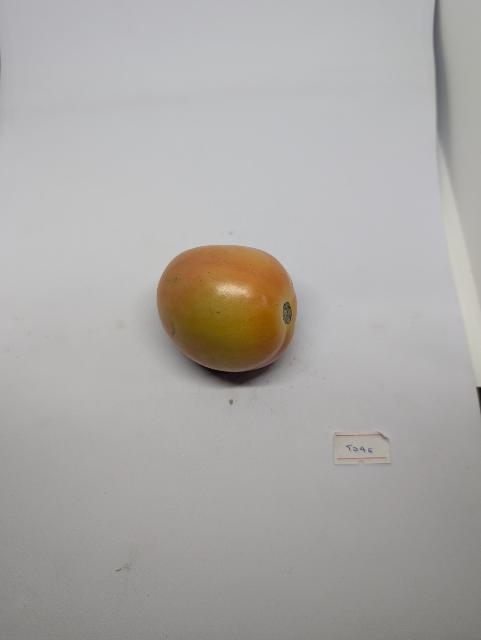turning: (148, 231, 304, 383)
